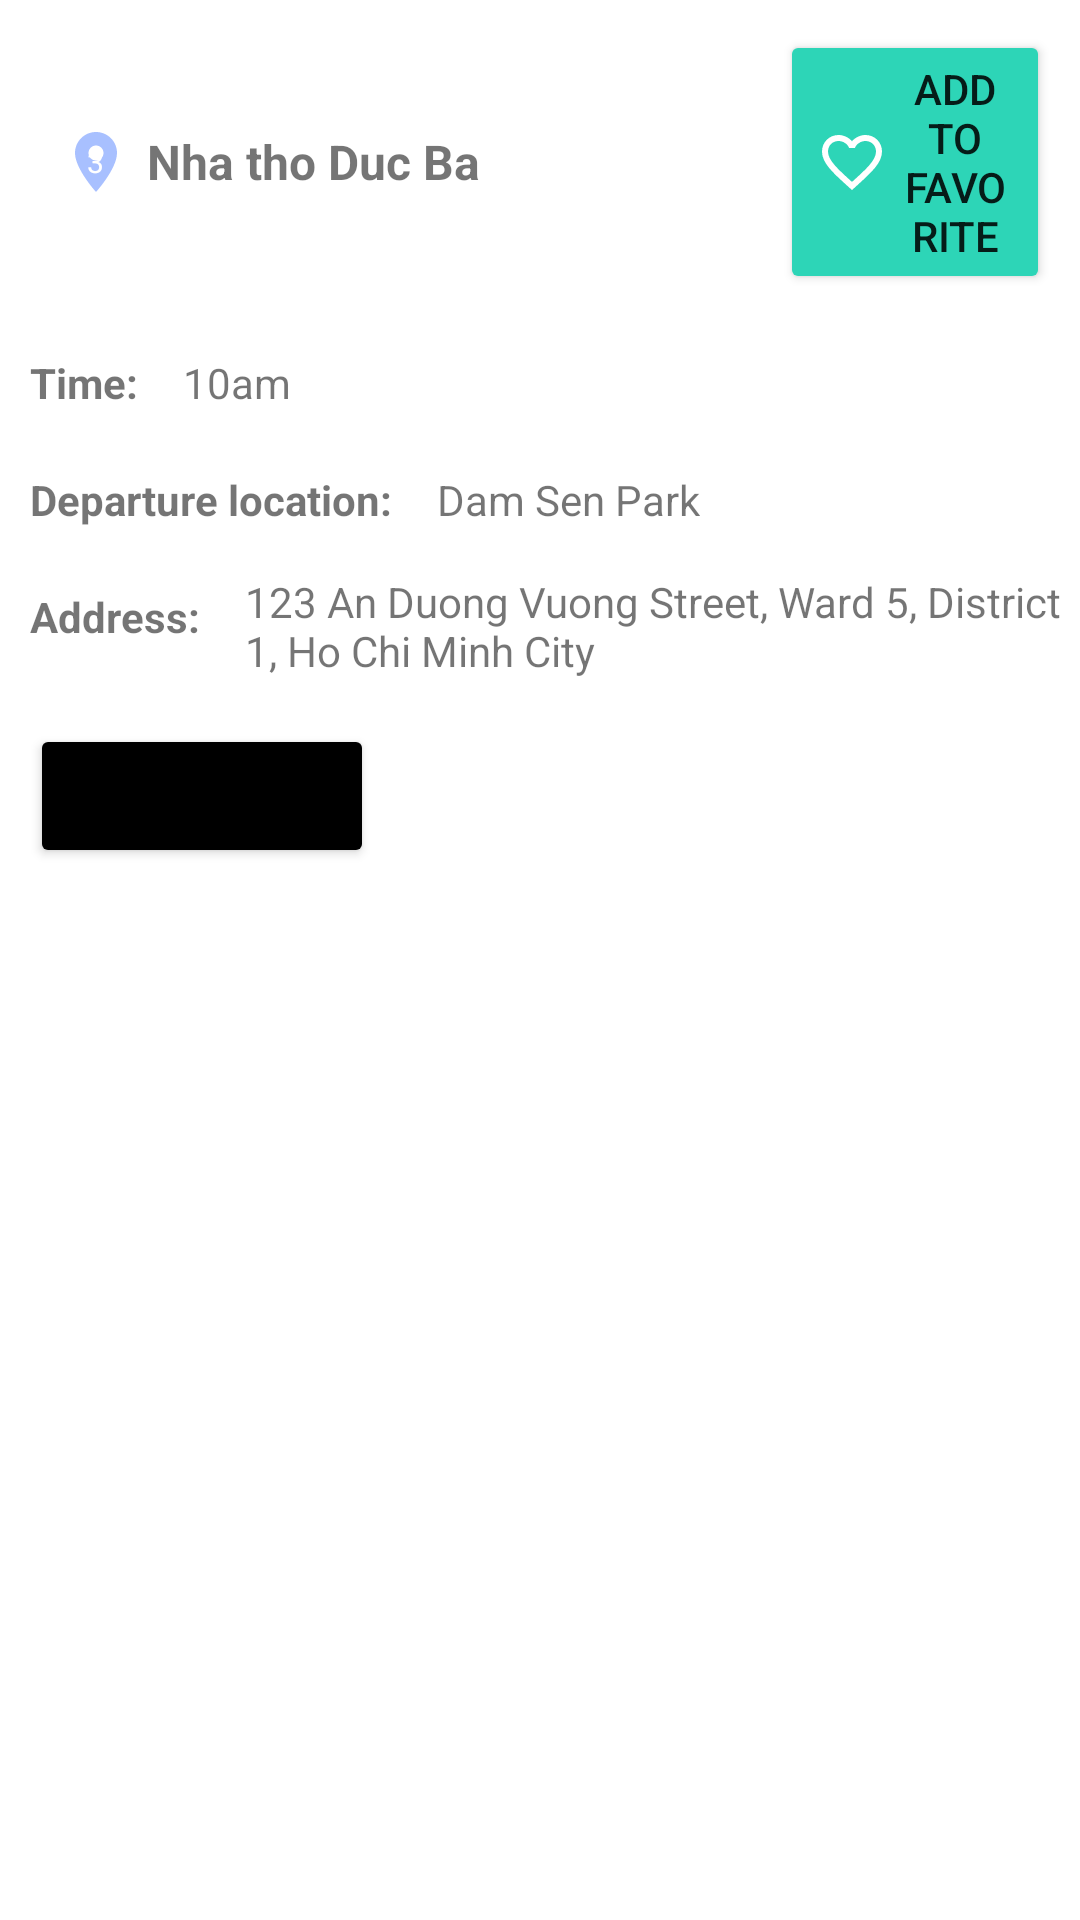

Named icons in this screenshot (1080px×1920px) and their bounding boxes, box(x1, y1, x2, y2):
location: box(75, 132, 117, 192)
